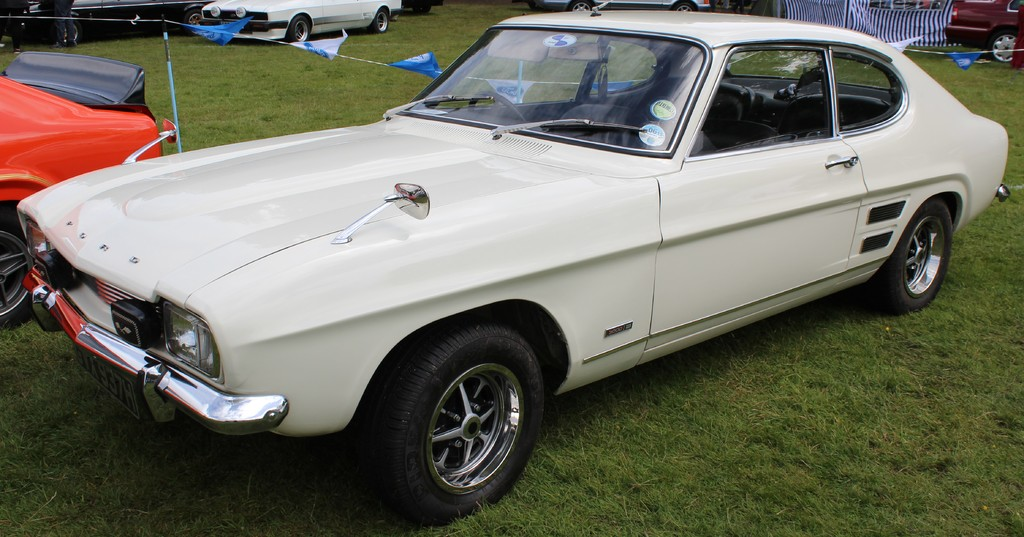Car: (21, 3, 1013, 517), (0, 49, 160, 327), (195, 0, 404, 46), (0, 0, 173, 53), (938, 0, 1023, 64)
